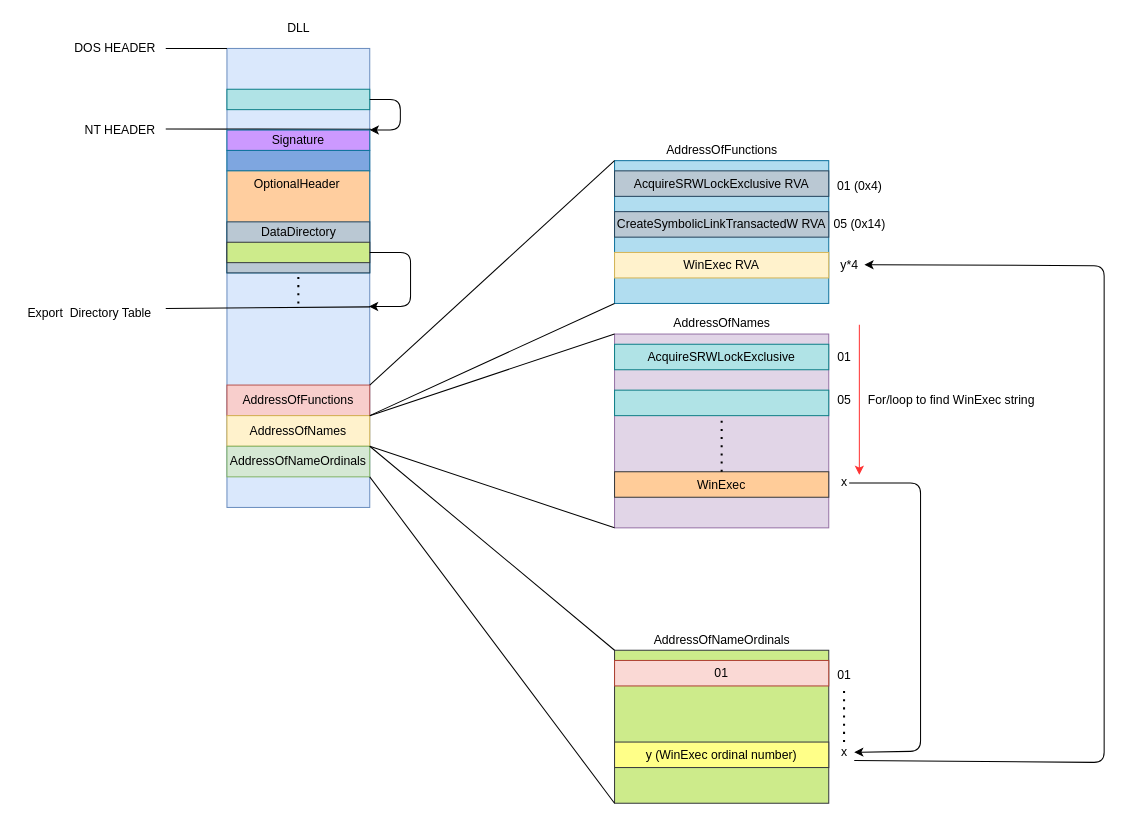
This 1130x822 diagram has some shape labels left out. Here are the shapes that lost their labels. From the top down, the centre of each, then its label:
At (x=298, y=99): "e_lfanew".
At (x=298, y=160): "FileHeader".
At (x=298, y=252): "VirtualAddress".
At (x=721, y=402): "CreateSymbolicLinkTransactedW".
